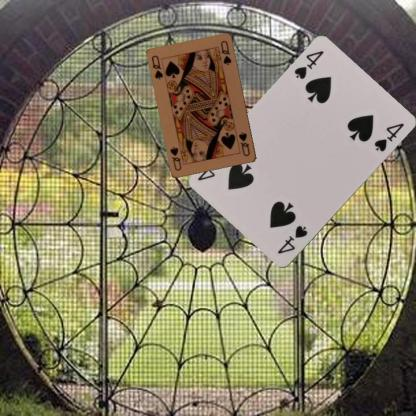4s: (275, 223, 309, 256), (291, 48, 325, 81)
Qs: (236, 129, 252, 158), (149, 52, 165, 81)
